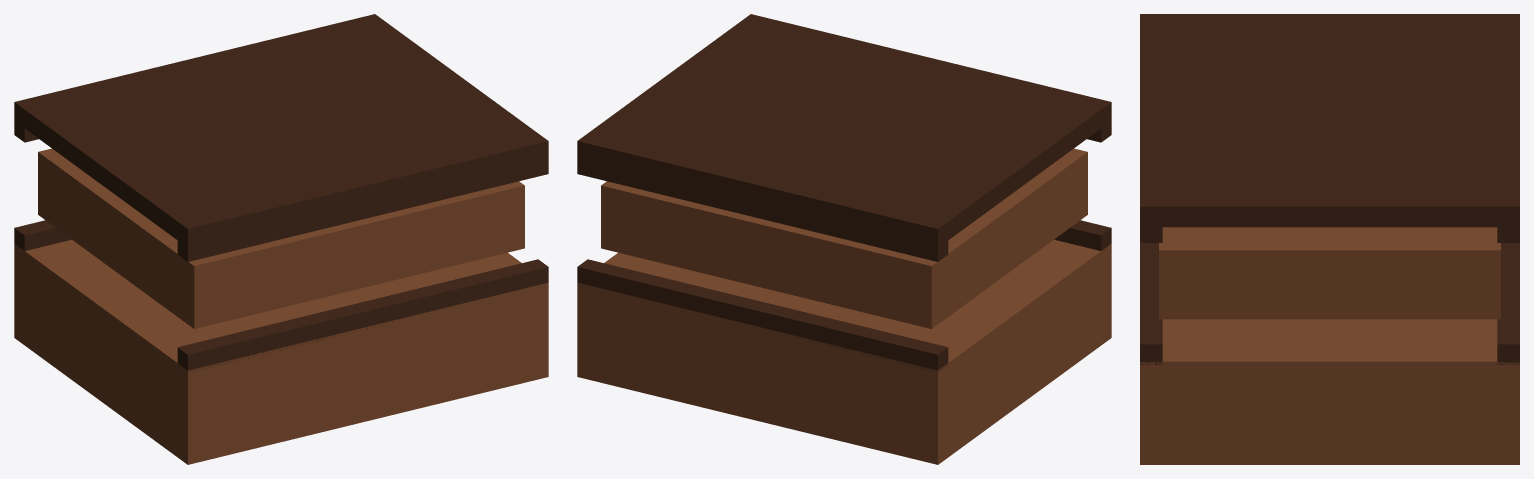
File: CRATE_STACK_2X2.obj
3 renders of one model, left to right at view 1: azimuth 30°, elevation 25°; view 2: azimuth 150°, elevation 25°; view 3: azimuth 270°, elevation 25°, orthographic. The views are drawn at different scales.
Visible parts, largest first — view 1: CRATE_STACK_2X2; view 2: CRATE_STACK_2X2; view 3: CRATE_STACK_2X2.
Part boxes in pixels (x1,y1,x2,y2): CRATE_STACK_2X2: (14, 14, 548, 464); CRATE_STACK_2X2: (577, 14, 1111, 464); CRATE_STACK_2X2: (1140, 14, 1519, 464).
Bounding box in the file's own units: 2.4 × 1.5 × 2.
